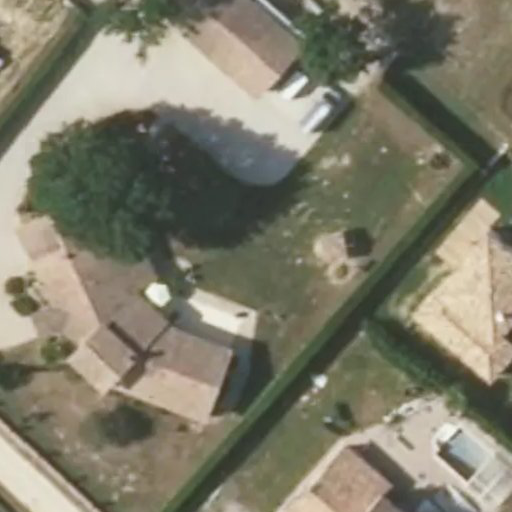pool: (205, 226, 306, 257)
